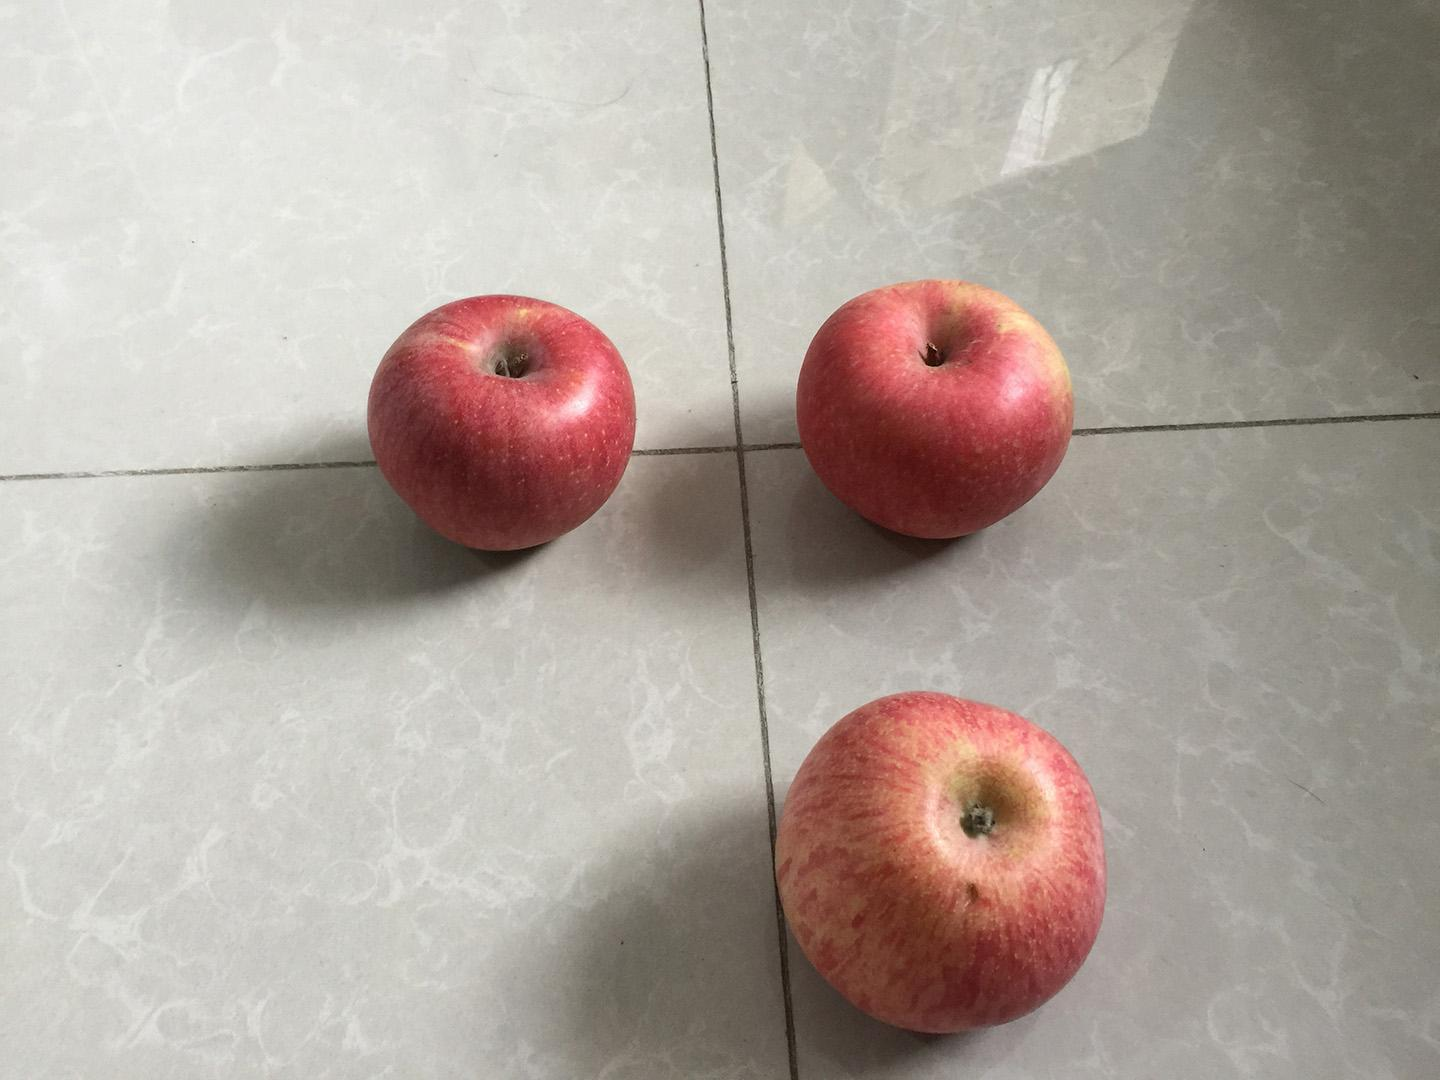apple: (764, 680, 1120, 1041), (787, 264, 1084, 550), (356, 287, 649, 564)
